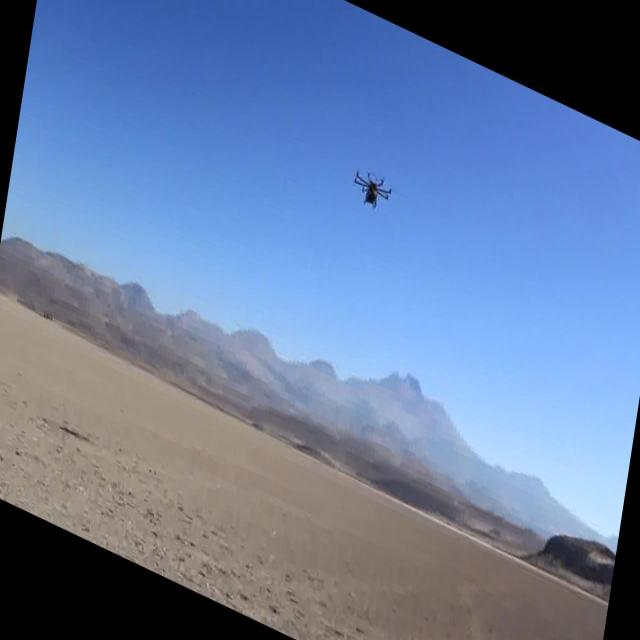drone: (350, 160, 395, 220)
